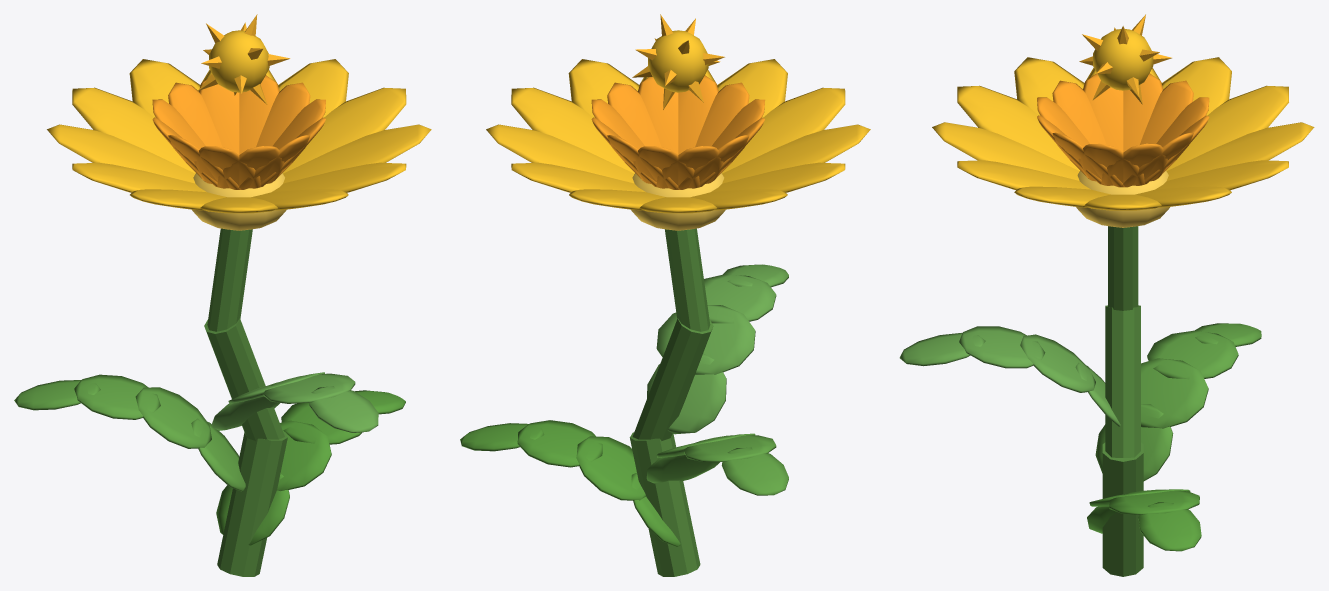
File: Planta_SunBloom.fbx
The picture shows the model from 3 angles, left to right: view 1: azimuth 30°, elevation 25°; view 2: azimuth 150°, elevation 25°; view 3: azimuth 270°, elevation 25°; orthographic projection.
Parts seen in each view (by area): view 1: Corpo_SunBloom, Brilho_SunBloom; view 2: Corpo_SunBloom, Brilho_SunBloom; view 3: Corpo_SunBloom, Brilho_SunBloom.
Part boxes in pixels (x1,y1,x2,y2): Corpo_SunBloom: (14, 59, 431, 576); Brilho_SunBloom: (198, 14, 290, 104); Corpo_SunBloom: (460, 59, 870, 576); Brilho_SunBloom: (632, 14, 724, 109); Corpo_SunBloom: (899, 57, 1314, 576); Brilho_SunBloom: (1079, 14, 1171, 104).
Size of the model in its own units: 2.83 by 4.21 by 2.87.
1 material, 1 textured.
